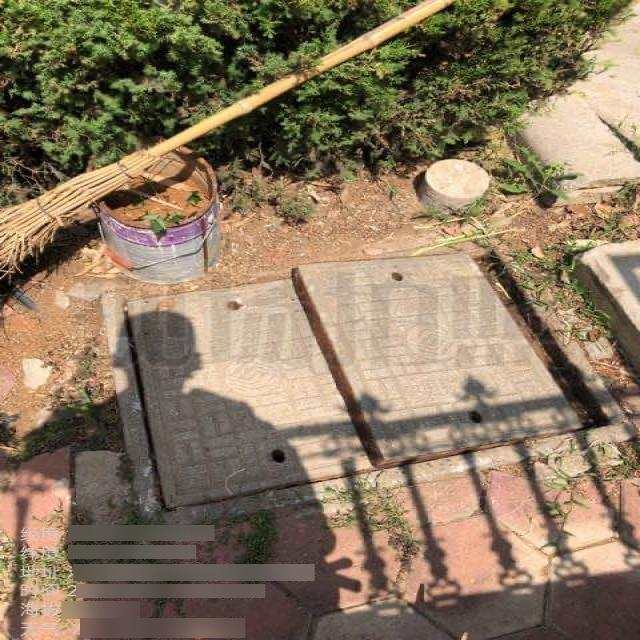Faulty: (100, 244, 632, 531)
